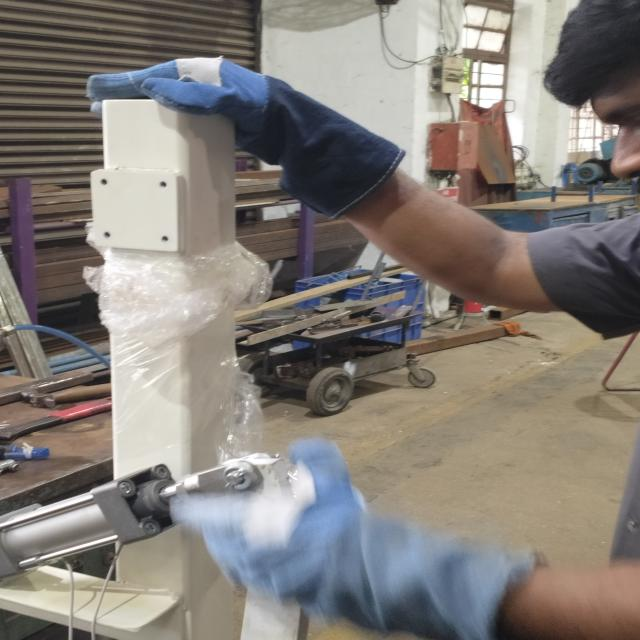Gloves-Detection: (182, 445, 522, 638), (80, 56, 405, 232)
